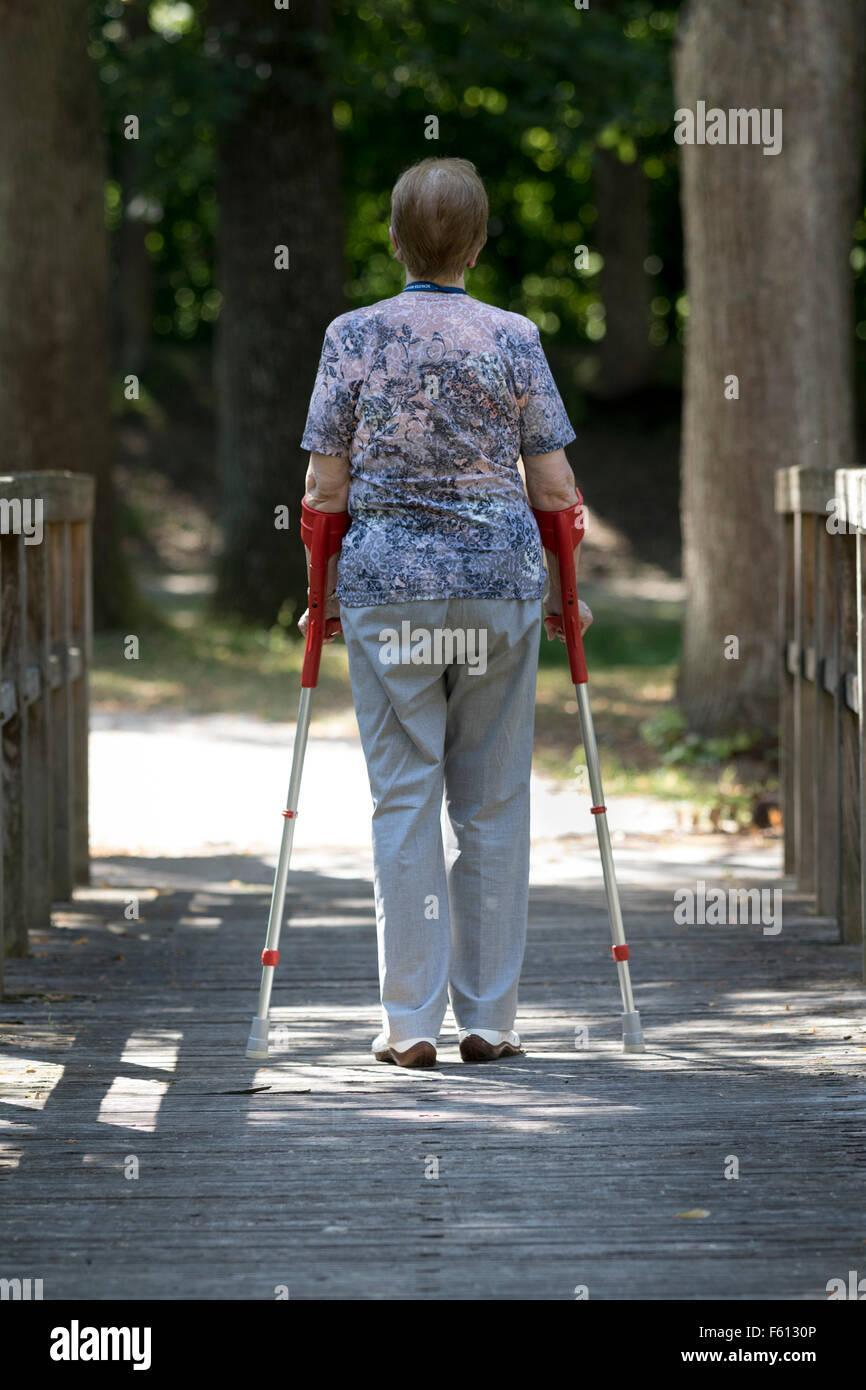crutches: (228, 116, 650, 1068)
